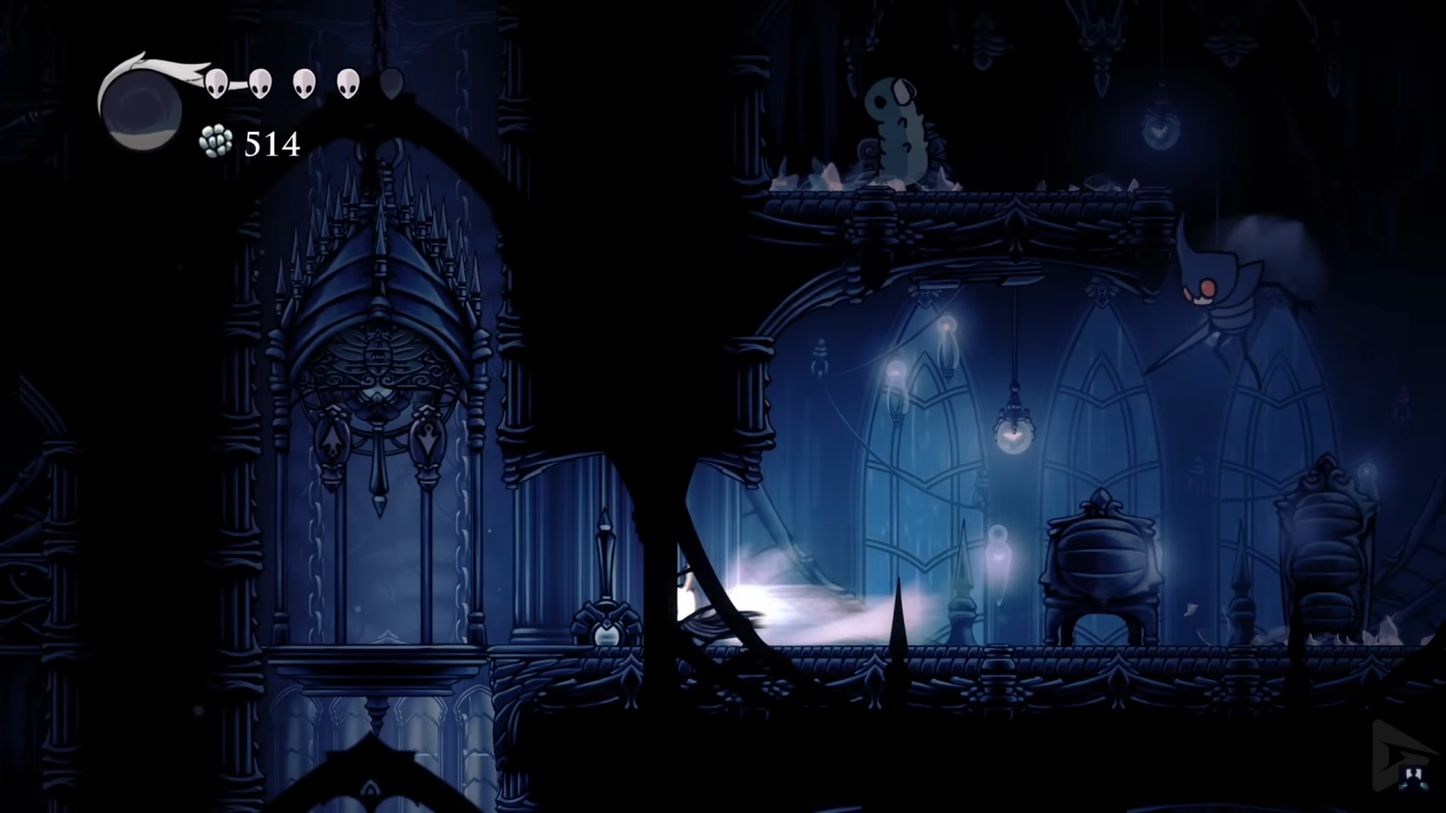HK: (668, 563, 763, 641)
